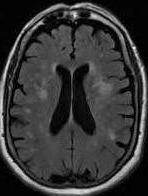Normal_Brain: (1, 1, 147, 196)
